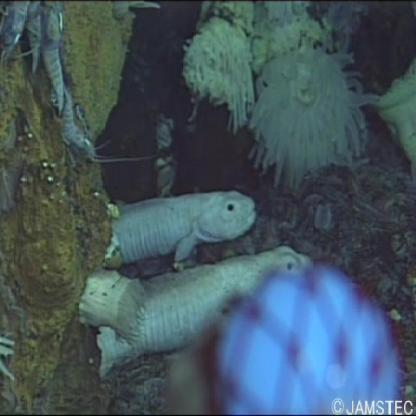Bio: (76, 186, 317, 386), (1, 1, 130, 169), (245, 47, 389, 192)
